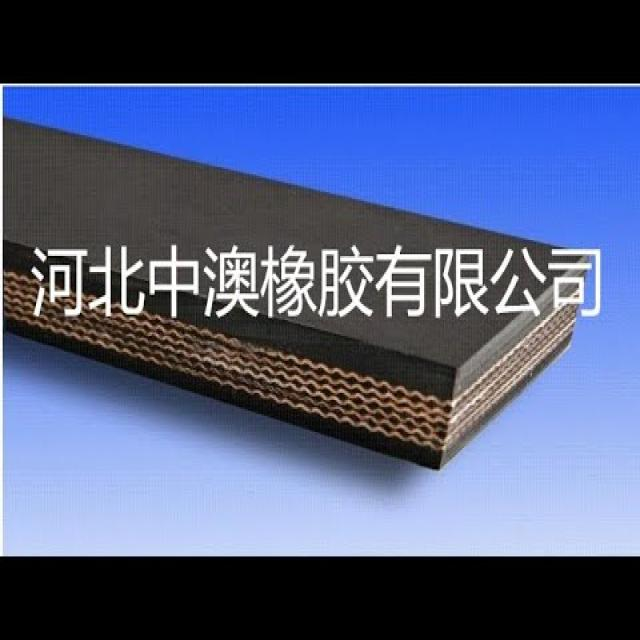conveyor: (0, 82, 589, 484)
